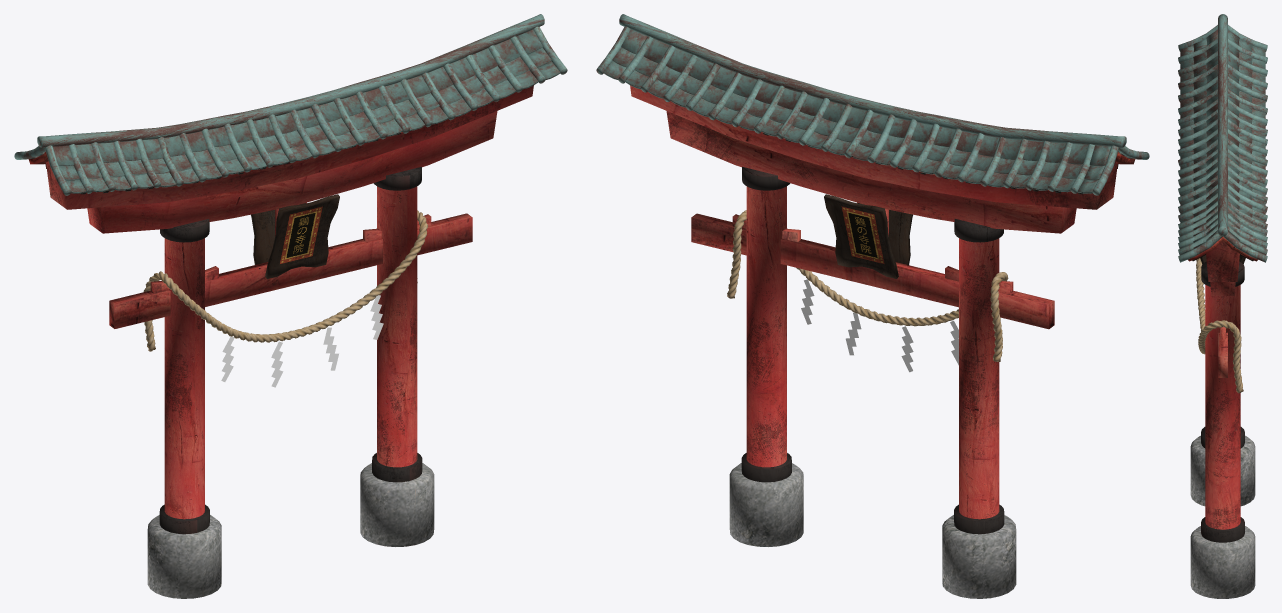
Rendered from japanese_torii_gate_game_asset.glb.
3 renders of one model, left to right at view 1: azimuth 30°, elevation 25°; view 2: azimuth 150°, elevation 25°; view 3: azimuth 270°, elevation 25°, orthographic. The views are drawn at different scales.
Parts seen in each view (by area): view 1: Cube.014; view 2: Cube.014; view 3: Cube.014.
Part boxes in pixels (x1,y1,x2,y2): Cube.014: (14, 14, 567, 598); Cube.014: (596, 14, 1149, 598); Cube.014: (1178, 14, 1267, 598).
Size of the model in its own units: 871 by 797 by 155.
Materials: 1 (1 with a texture image).
